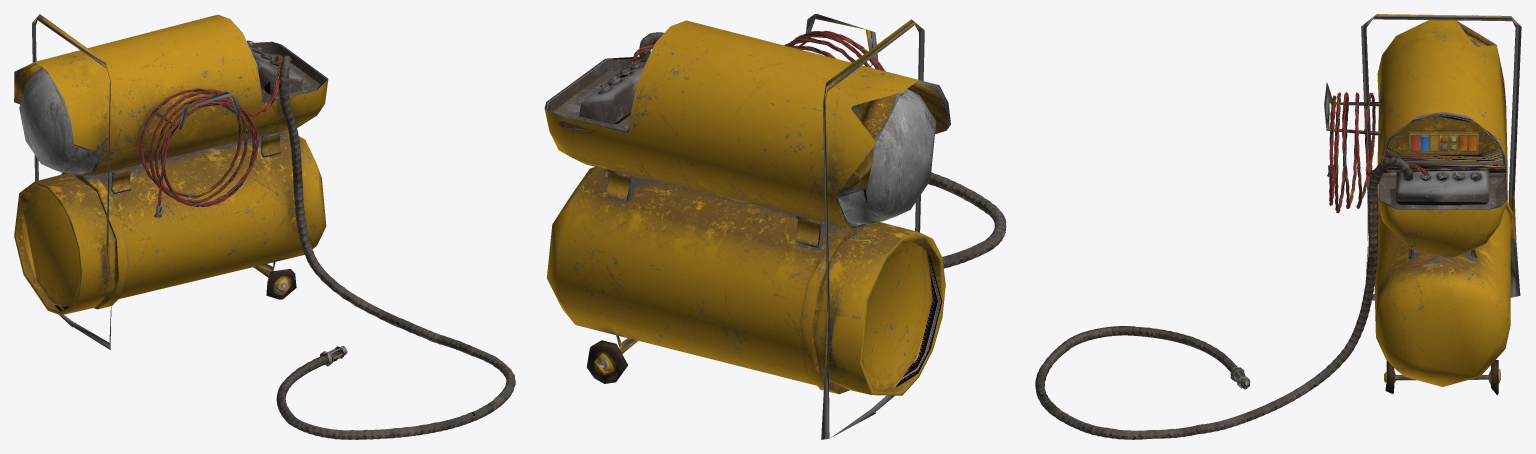
File: welderrack.glb
3 renders of one model, left to right at view 1: azimuth 30°, elevation 25°; view 2: azimuth 150°, elevation 25°; view 3: azimuth 270°, elevation 25°, orthographic. The views are drawn at different scales.
Visible parts, largest first — view 1: Object_4; view 2: Object_4; view 3: Object_4.
Boxes of the visible parts, box(x1,y1,x2,y2) form: Object_4: box(14, 14, 515, 439); Object_4: box(544, 14, 1006, 439); Object_4: box(1035, 14, 1521, 439).
Size of the model in its own units: 2.08 by 1.8 by 2.71.
Materials: 1 (1 with a texture image).
